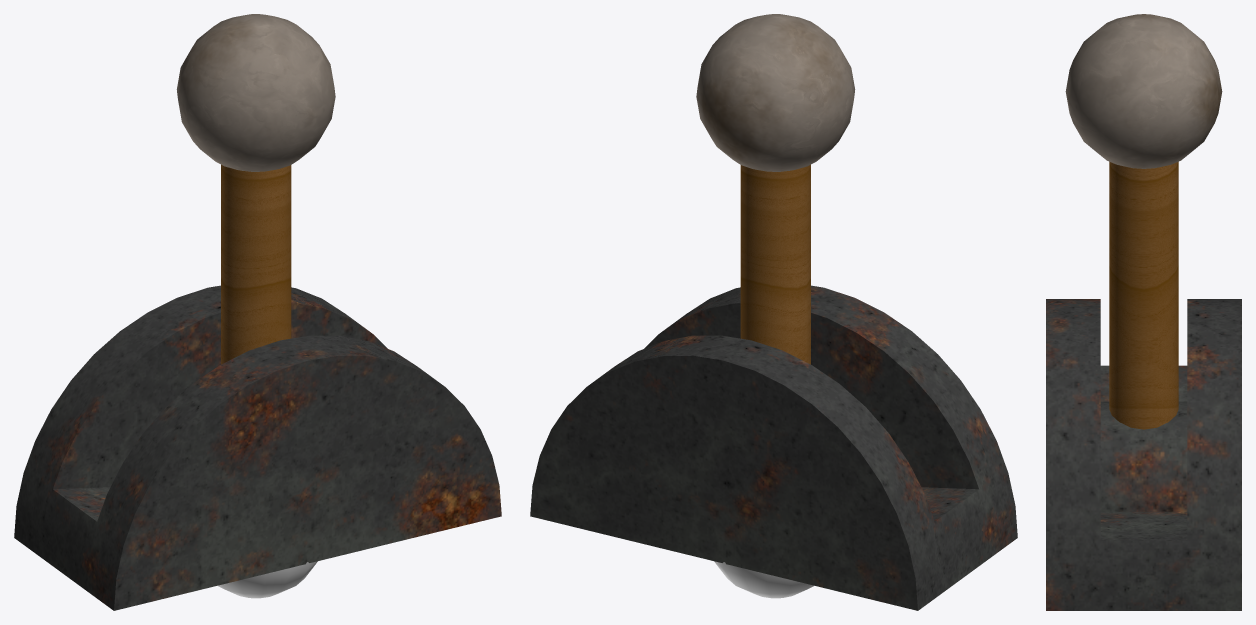
Rendered from Hebel 1.fbx.
3 renders of one model, left to right at view 1: azimuth 30°, elevation 25°; view 2: azimuth 150°, elevation 25°; view 3: azimuth 270°, elevation 25°, orthographic. The views are drawn at different scales.
Visible parts, largest first — view 1: Basis, Kugel, Zylinder, Hebel; view 2: Basis, Kugel, Zylinder, Hebel; view 3: Basis, Kugel, Zylinder.
Part boxes in pixels (x1,y1,x2,y2): Basis: [14, 285, 501, 610]; Kugel: [176, 14, 335, 171]; Zylinder: [221, 164, 291, 364]; Hebel: [217, 561, 317, 598]; Basis: [530, 285, 1017, 610]; Kugel: [696, 14, 855, 171]; Zylinder: [740, 164, 810, 364]; Hebel: [714, 561, 814, 598]; Basis: [1046, 299, 1241, 610]; Kugel: [1065, 14, 1222, 168]; Zylinder: [1109, 161, 1178, 429].
Size of the model in its own units: 101 by 142 by 45.
Materials: 3 (3 with a texture image).
